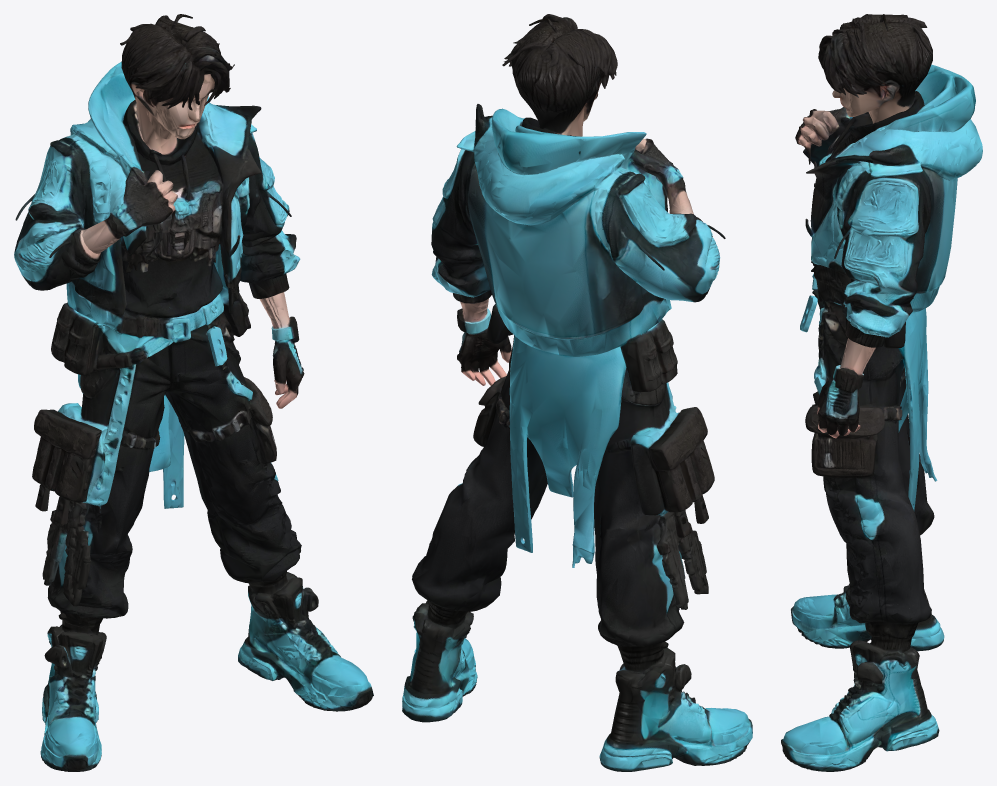
File: zane.glb
3 renders of one model, left to right at view 1: azimuth 30°, elevation 25°; view 2: azimuth 150°, elevation 25°; view 3: azimuth 270°, elevation 25°, orthographic. The views are drawn at different scales.
Visible parts, largest first — view 1: model; view 2: model; view 3: model.
Part boxes in pixels (x1,y1,x2,y2): model: [14, 14, 373, 771]; model: [402, 14, 752, 771]; model: [781, 14, 982, 771].
Size of the model in its own units: 0.9005 by 1.9 by 0.5075.
1 material, 1 textured.
